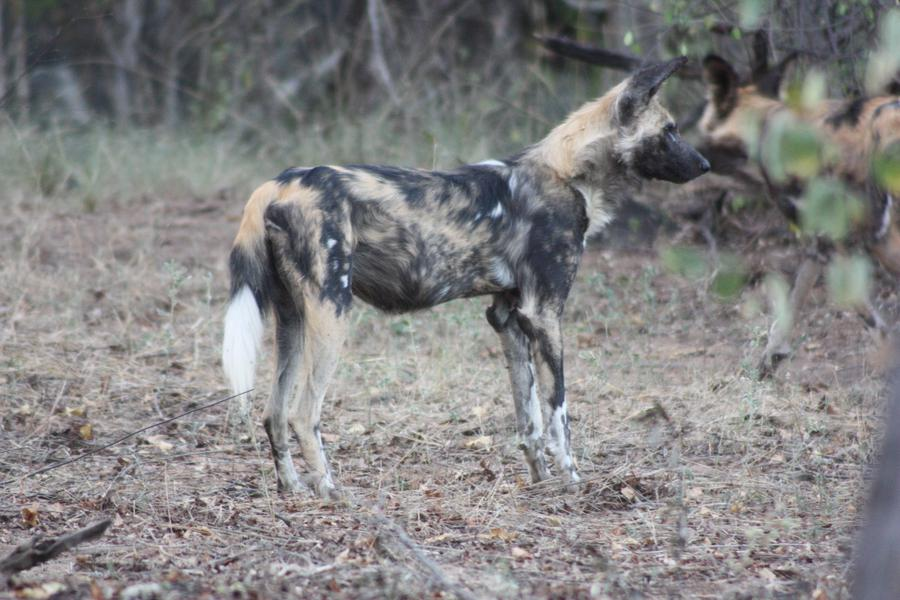wilddog: (252, 63, 681, 429)
